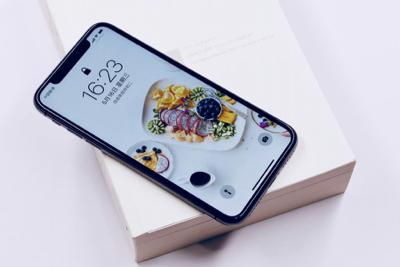Mobile Phone: (32, 20, 298, 226)
